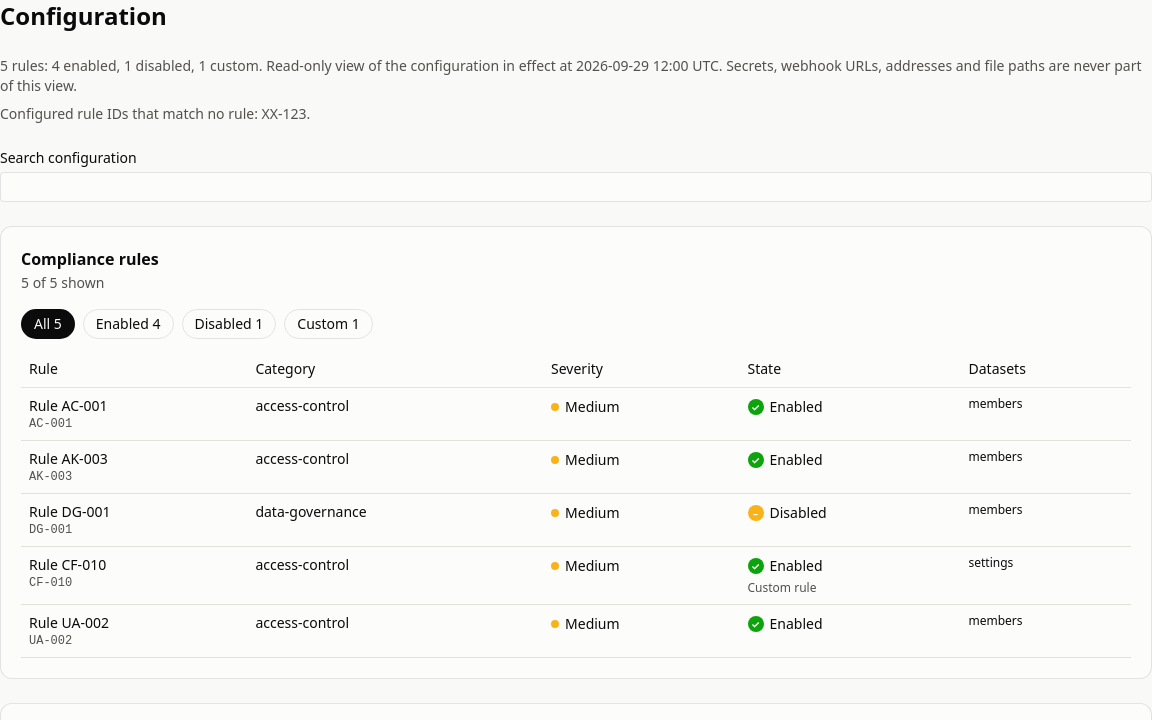
Config page › searches across all sections and reports no match
Expected: the table named "Compliance rules" is shown, [21,351,1131,658]
In the search field labelled "Search configuration": (576, 187) [0,172,1151,202], type "slack"
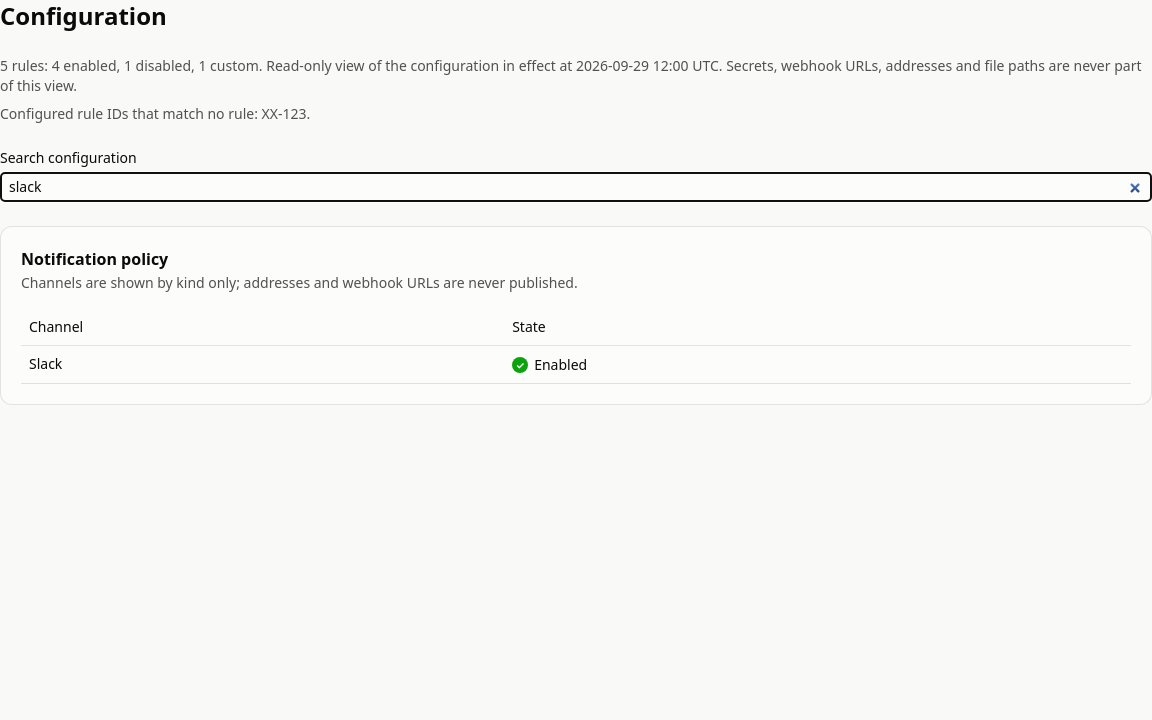
Expected: the table named "Notification channels" is shown, [21,309,1131,384]
Now the heading "Compliance rules" is gone
Replace the text in the search field labelled "Search configuration" with "inactiveDays": (576, 187) [0,172,1151,202]
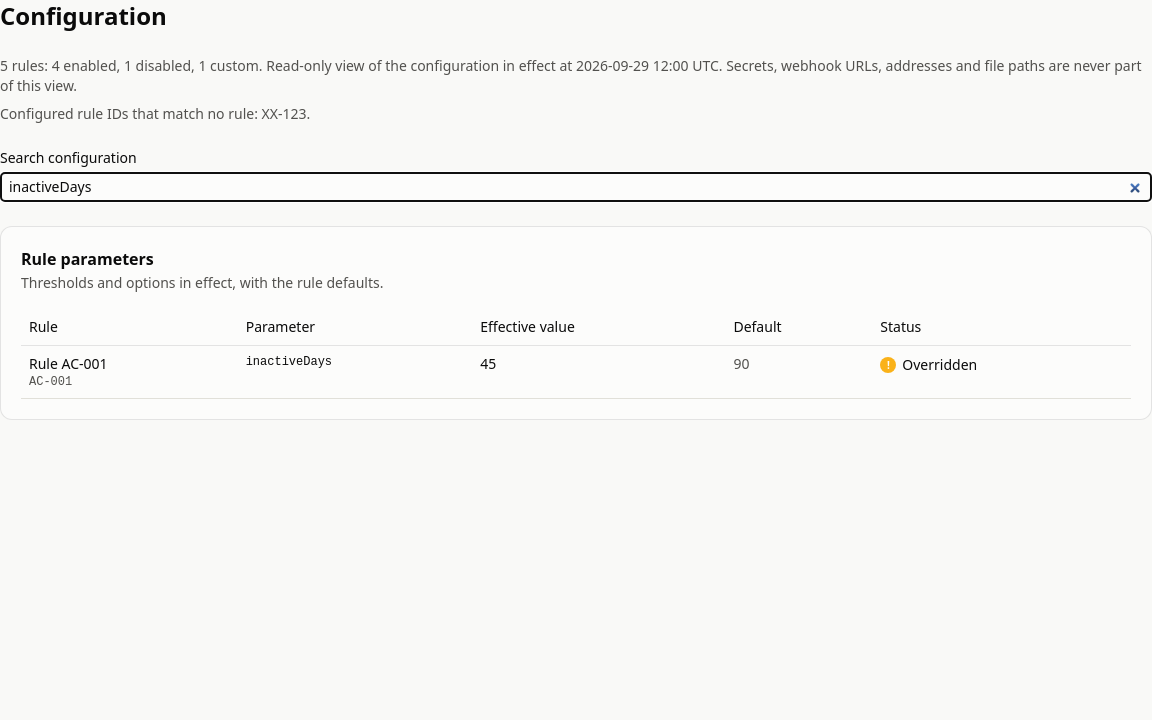
Expected: the table named "Rule parameters" is shown, [21,309,1131,399]
Replace the text in the search field labelled "Search configuration" with "zzzz-nothing": (576, 187) [0,172,1151,202]
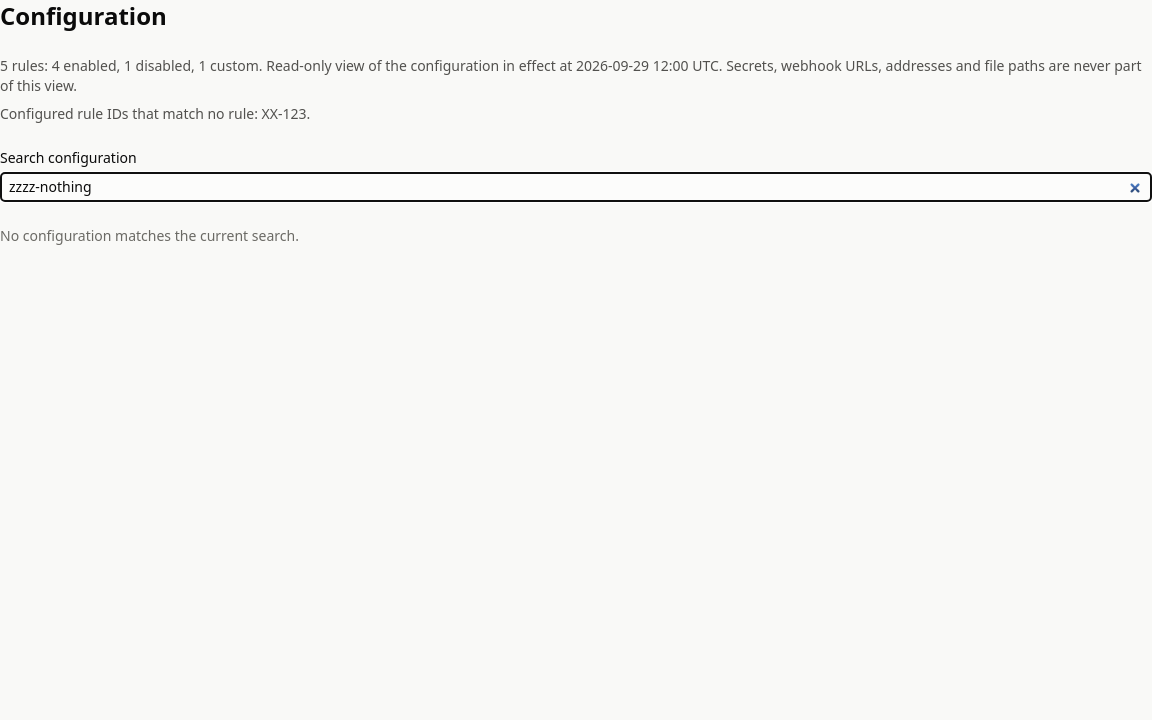
Now the text "No configuration matches the current search." is shown, box [0,226,299,245]
Now the table is gone
